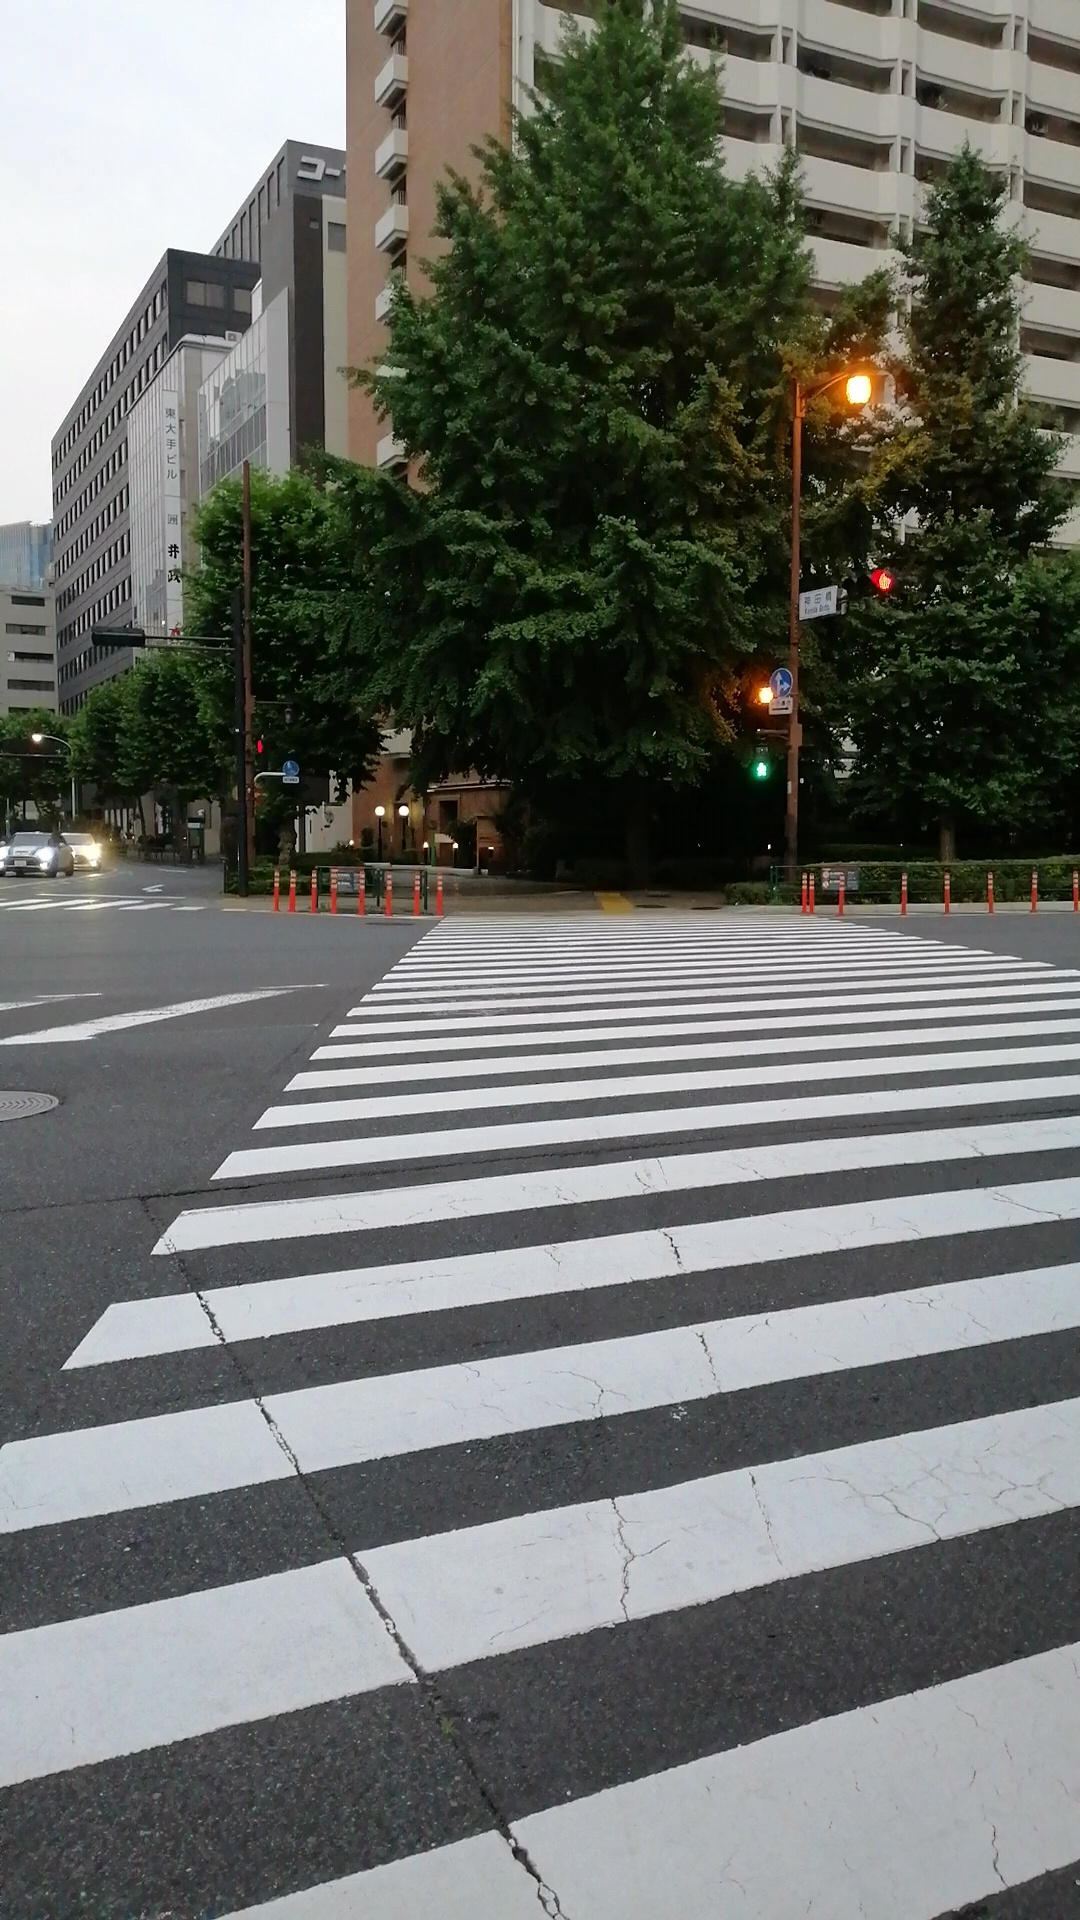green: (748, 735, 774, 785)
